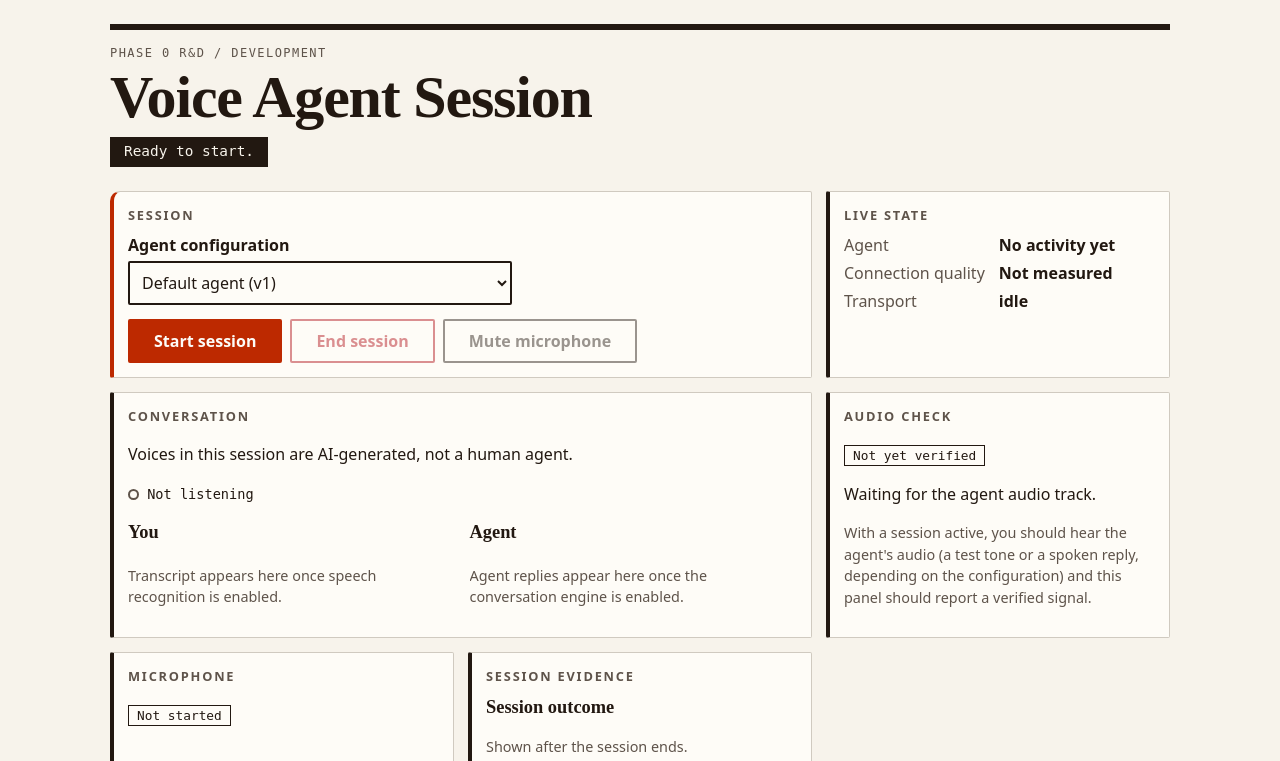
Test: conversation engine summary › shows operation count, token usage and cost after the session ends
The width and height of the screenshot is (1280, 761).
Click the button "Start session". click: click(205, 341)
box: x1=128 y1=319 x2=282 y2=363
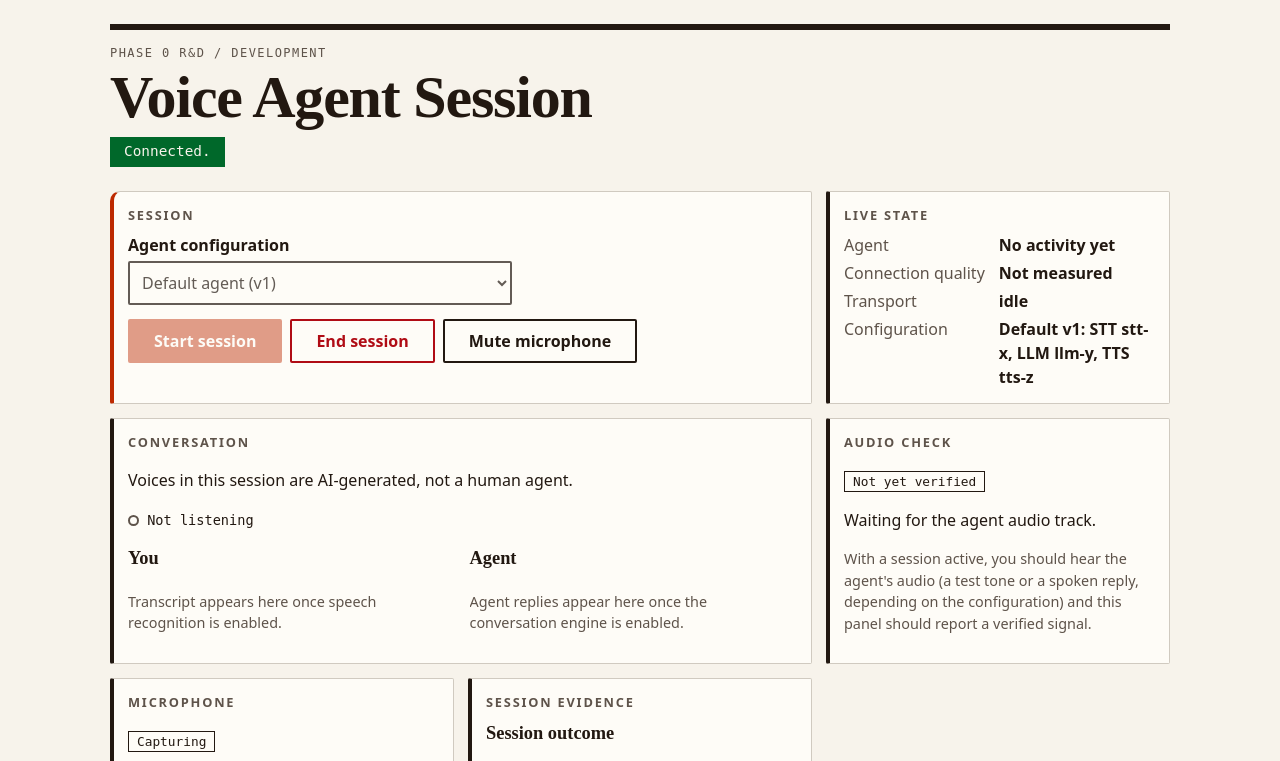
Now the message "Connected." is shown, box x1=110 y1=137 x2=225 y2=167
Click the button "End session". click: click(363, 341)
box: x1=290 y1=319 x2=435 y2=363
(page scrolled)
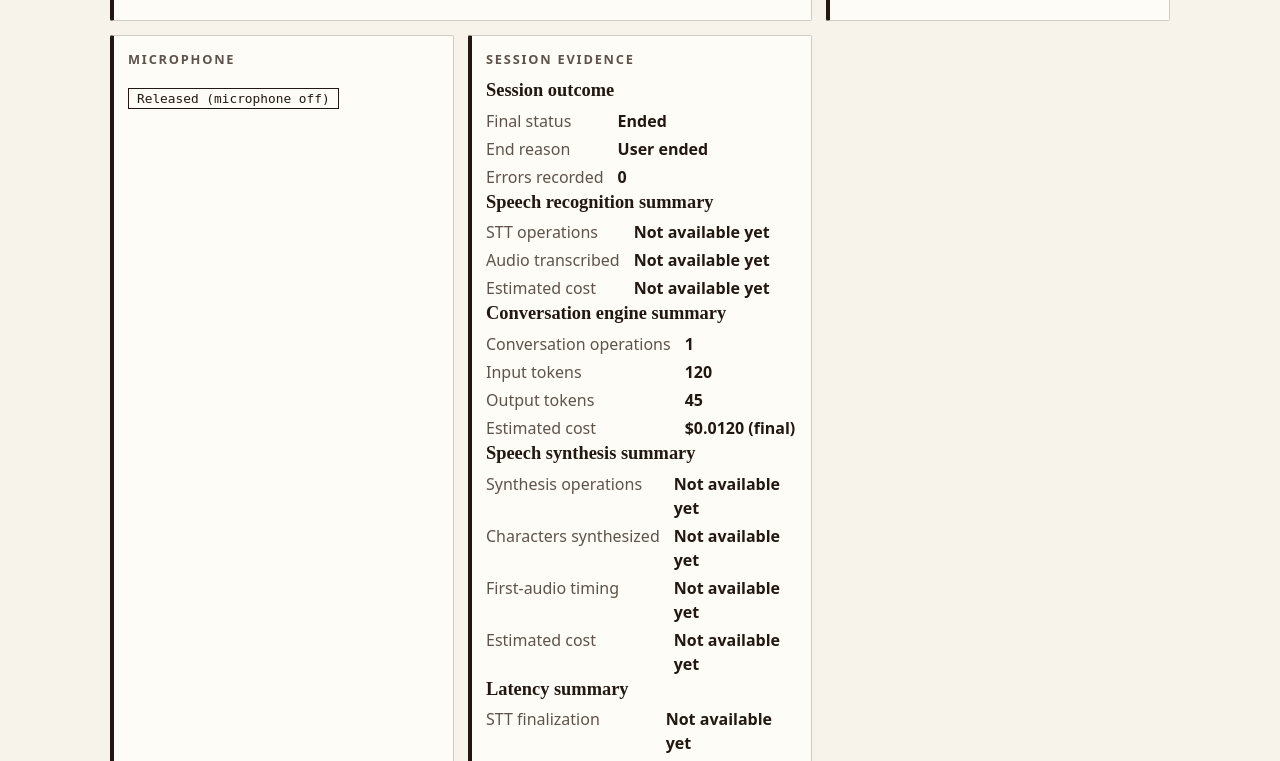
Now the element "Conversation engine summary" shows "$0.0120 (final)", box x1=685 y1=417 x2=795 y2=439
Now the text "1" is shown, box x1=685 y1=333 x2=694 y2=355
Now the text "120" is shown, box x1=685 y1=361 x2=712 y2=383
